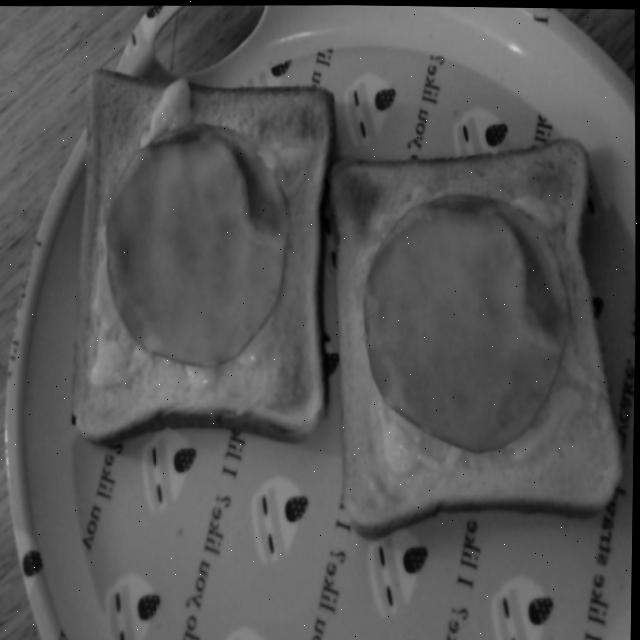面包点心: (316, 135, 629, 538), (61, 50, 342, 436)
